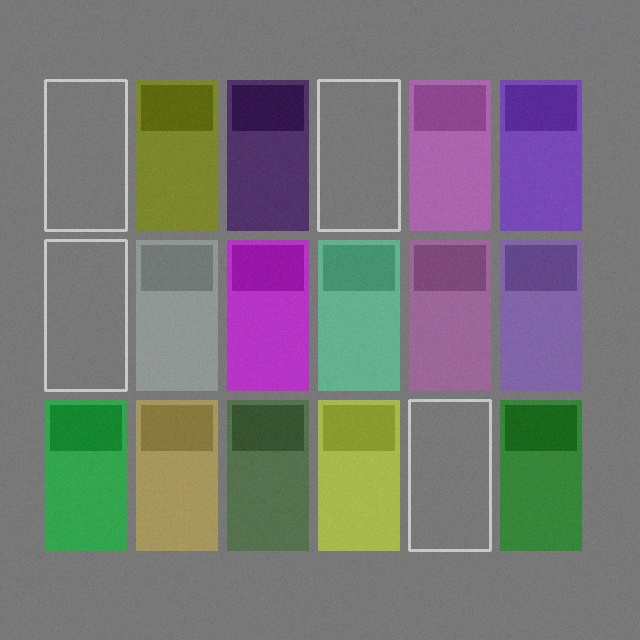space-empty: (45, 80, 126, 230), (318, 80, 399, 230), (45, 240, 126, 390), (409, 400, 490, 550)
space-occupied: (136, 80, 217, 230), (227, 80, 308, 230), (409, 80, 490, 230), (500, 80, 581, 230), (136, 240, 217, 390), (227, 240, 308, 390), (318, 240, 399, 390), (409, 240, 490, 390), (500, 240, 581, 390), (45, 400, 126, 550), (136, 400, 217, 550), (227, 400, 308, 550), (318, 400, 399, 550), (500, 400, 581, 550)
